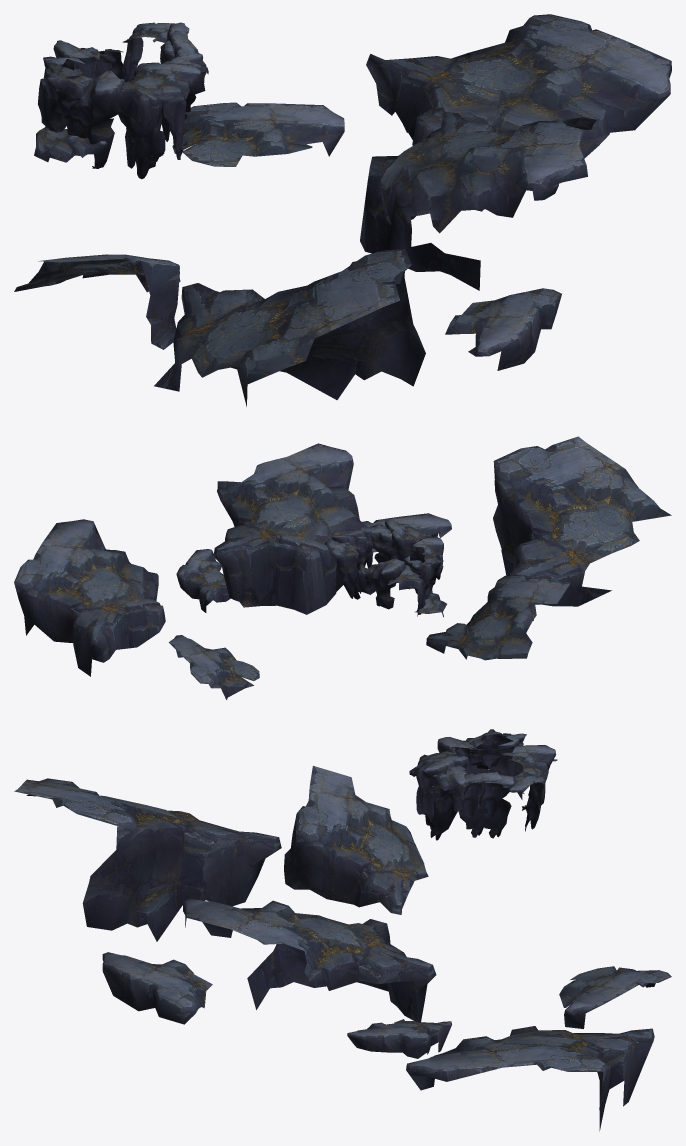
The model's file is s_battle_03_stone.FBX.
3 views of the same model, one above another, from view 1: azimuth 30°, elevation 25°; view 2: azimuth 150°, elevation 25°; view 3: azimuth 270°, elevation 25° (orthographic). The views are drawn at different scales.
Parts seen in each view (by area): view 1: stone; view 2: stone; view 3: stone.
Boxes of the visible parts, left/top/right/bottom form: stone: left=14, top=14, right=671, bottom=406; stone: left=14, top=436, right=671, bottom=699; stone: left=14, top=729, right=671, bottom=1131.
Size of the model in its own units: 284 by 91.21 by 273.
